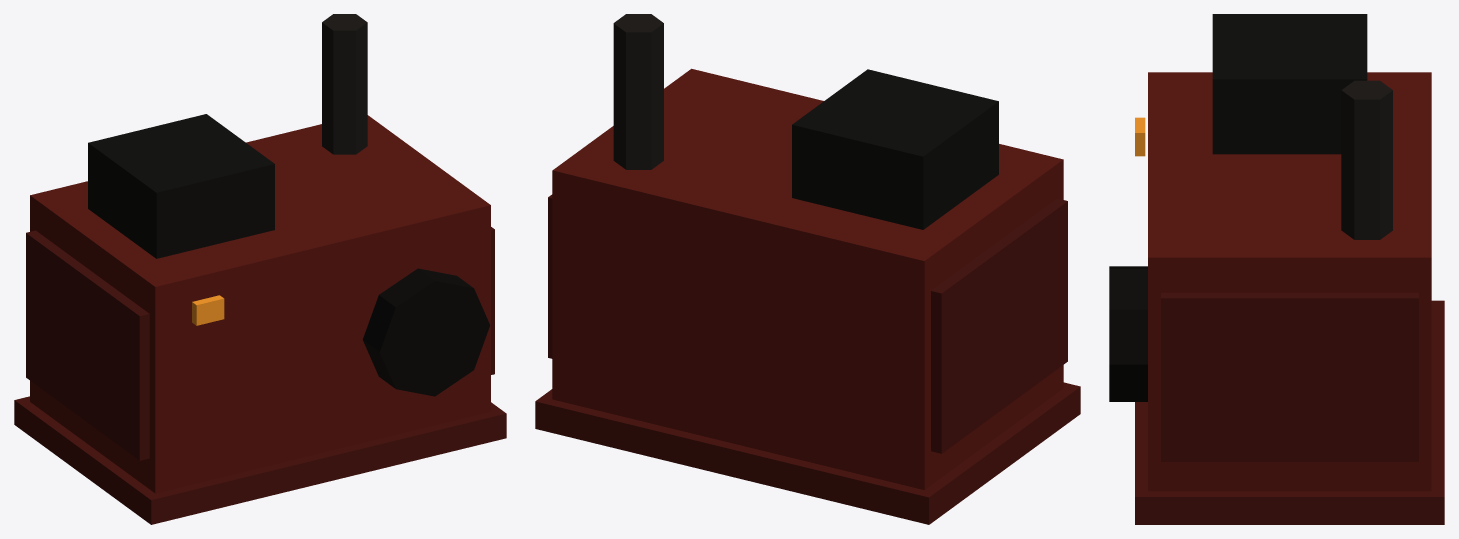
Rendered from generator.obj.
3 renders of one model, left to right at view 1: azimuth 30°, elevation 25°; view 2: azimuth 150°, elevation 25°; view 3: azimuth 270°, elevation 25°, orthographic. The views are drawn at different scales.
Size of the model in its own units: 0.9 by 0.86 by 0.65.
